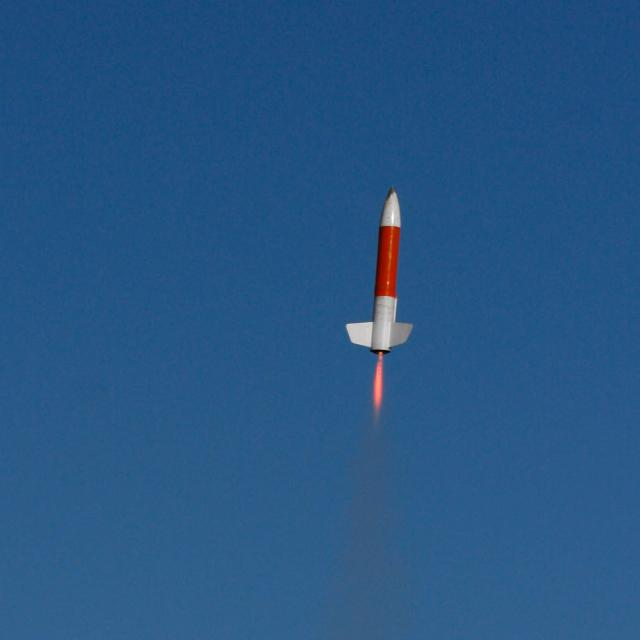Rocket: (344, 184, 416, 356)
